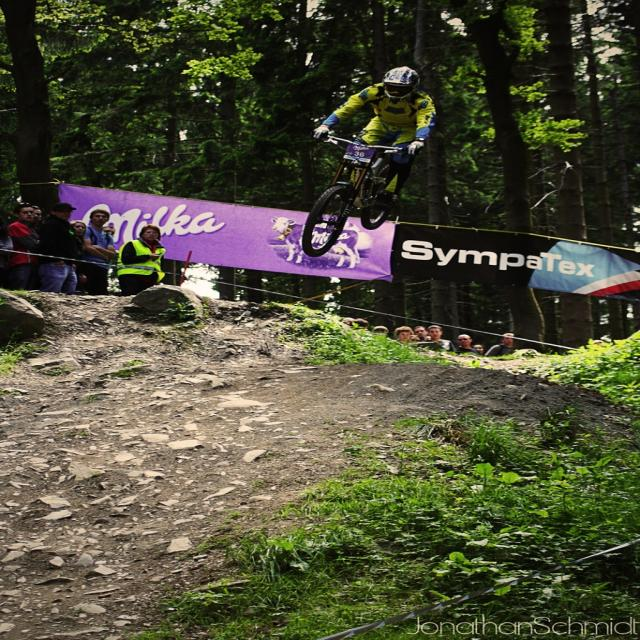milka: (74, 198, 225, 248)
